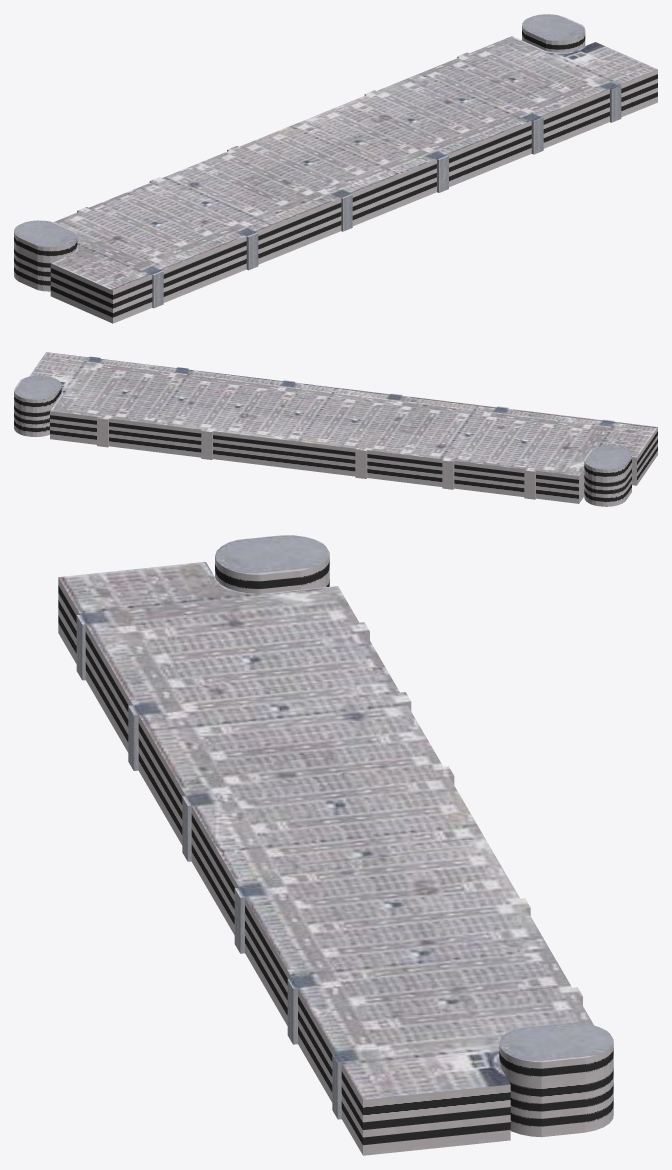
Rendered from Terminal_D_Parking.fbx.
The picture shows the model from 3 angles, top to bottom: view 1: azimuth 30°, elevation 25°; view 2: azimuth 150°, elevation 25°; view 3: azimuth 270°, elevation 25°; orthographic projection. The views are drawn at different scales.
Parts seen in each view (by area): view 1: Model; view 2: Model; view 3: Model.
Boxes of the visible parts, <box> form: Model: <box>14,14,657,323</box>; Model: <box>14,352,657,506</box>; Model: <box>58,535,613,1155</box>.
Bounding box in the file's own units: 350 × 22.41 × 151.
Materials: 10 (10 with a texture image).
